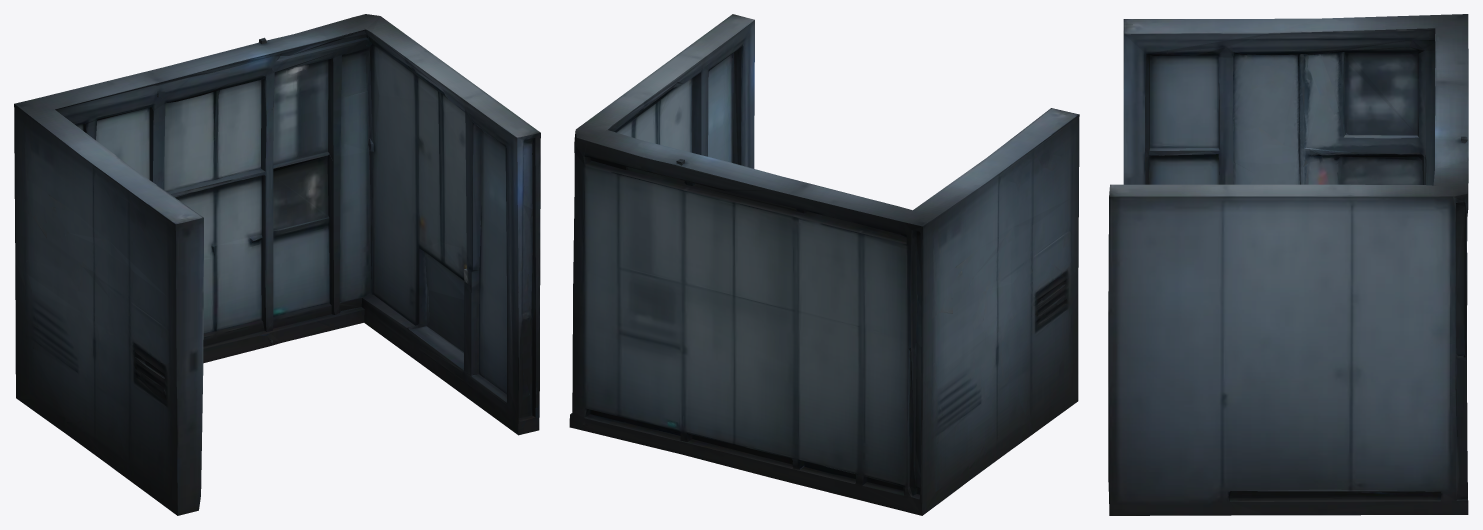
File: security-walls.glb
The picture shows the model from 3 angles, left to right: view 1: azimuth 30°, elevation 25°; view 2: azimuth 150°, elevation 25°; view 3: azimuth 270°, elevation 25°; orthographic projection. The views are drawn at different scales.
Parts seen in each view (by area): view 1: geometry_0; view 2: geometry_0; view 3: geometry_0.
Part boxes in pixels (x1,y1,x2,y2): geometry_0: (14, 14, 540, 515); geometry_0: (569, 14, 1079, 515); geometry_0: (1108, 14, 1468, 515).
Bounding box in the file's own units: 0.9916 × 0.7928 × 0.8005.
Materials: 1 (1 with a texture image).
